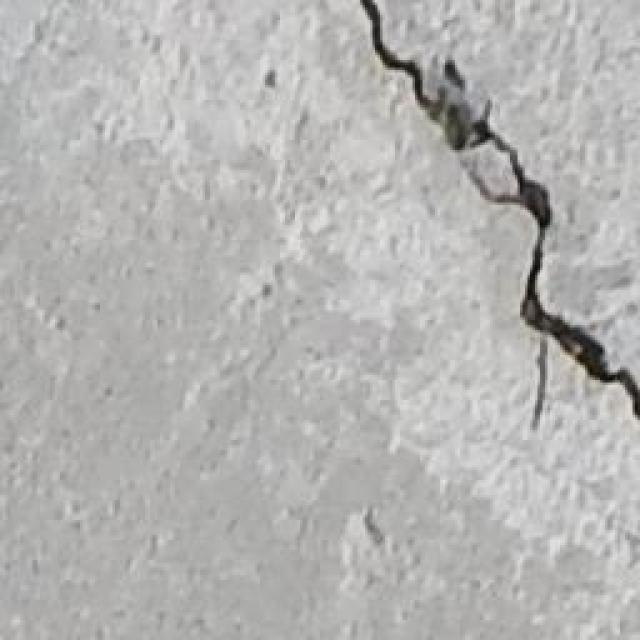concrete-crack: (352, 3, 640, 431)
